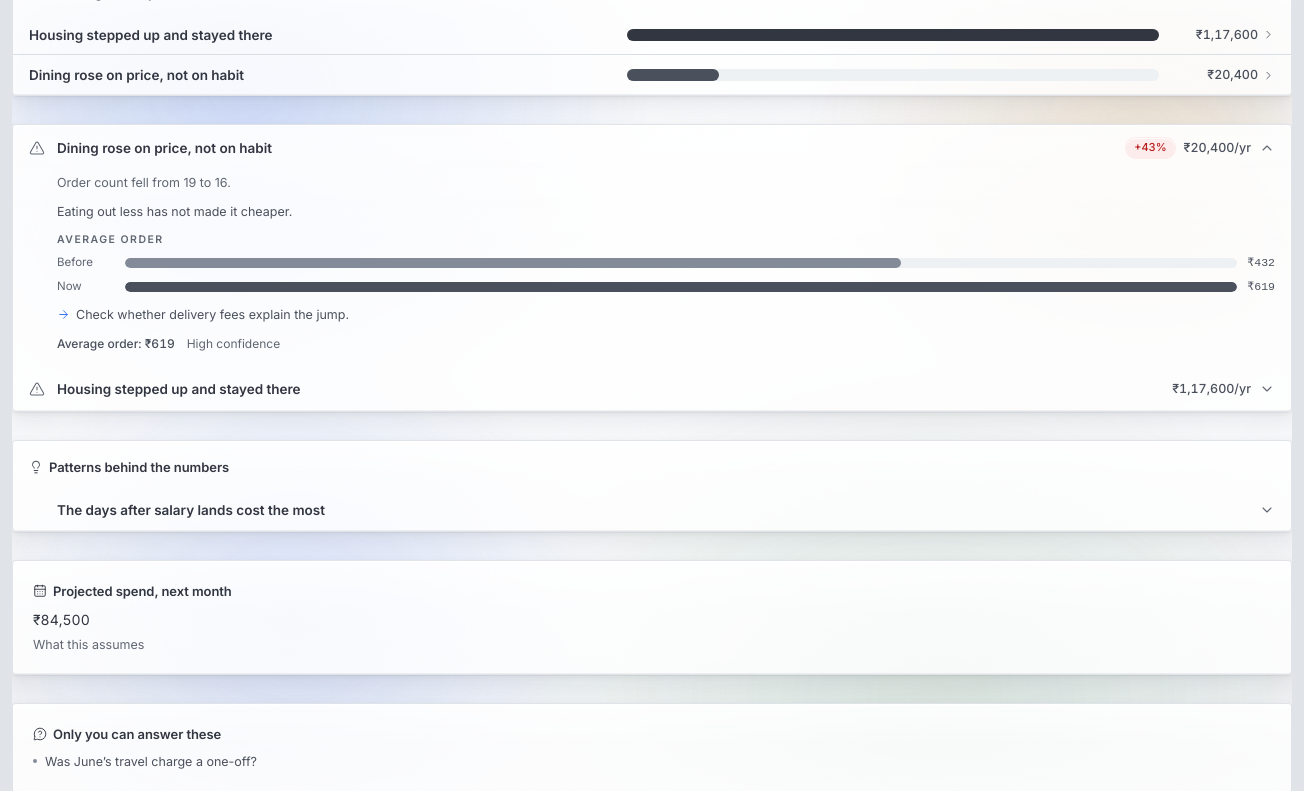
Test: InsightsRunView › opens a pattern’s detail and evidence on demand
The image size is (1304, 791).
(page scrolled)
Click the button "The days after salary lands cost the most": {"x": 191, "y": 510} [13, 489, 1291, 531]
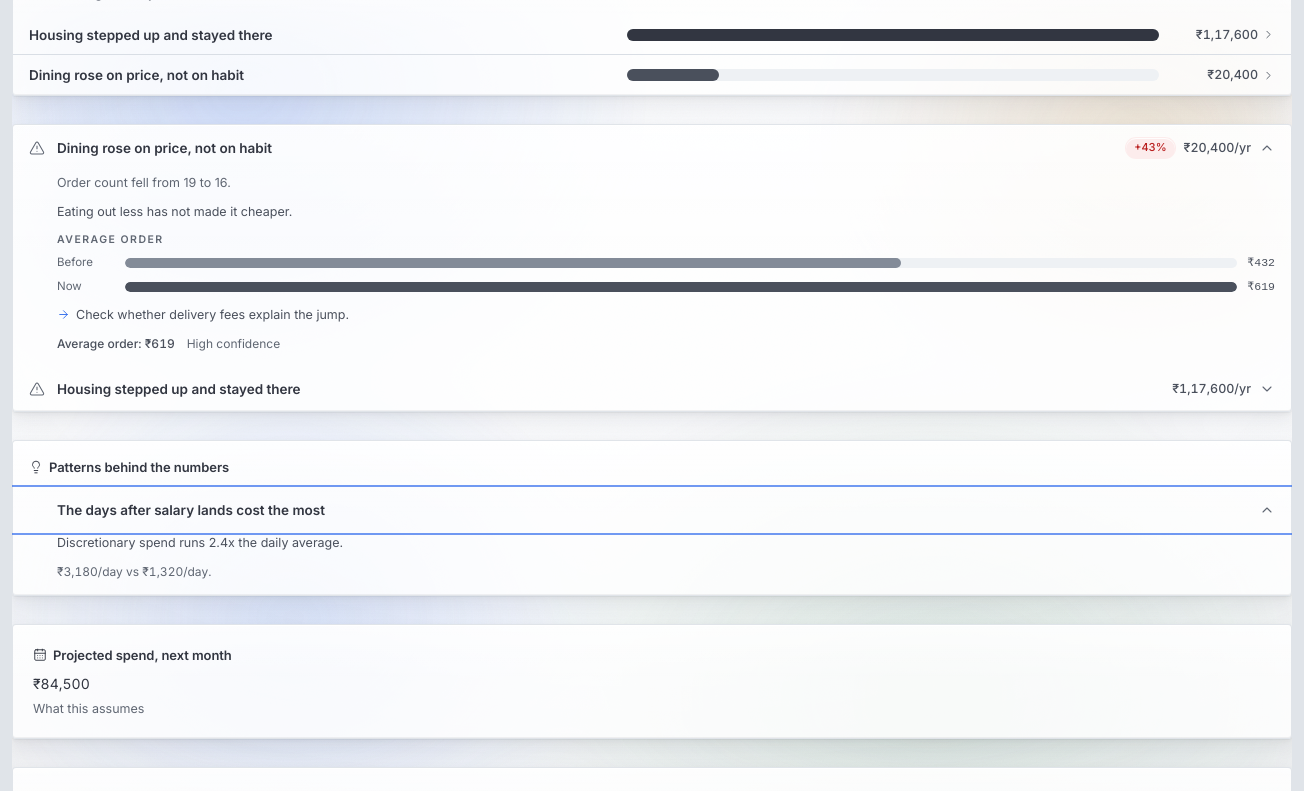
Expected: the text "Discretionary spend runs 2.4x the daily average." is shown, [57, 535, 343, 550]
Expected: the text "₹3,180/day vs ₹1,320/day." is shown, [57, 564, 211, 578]
